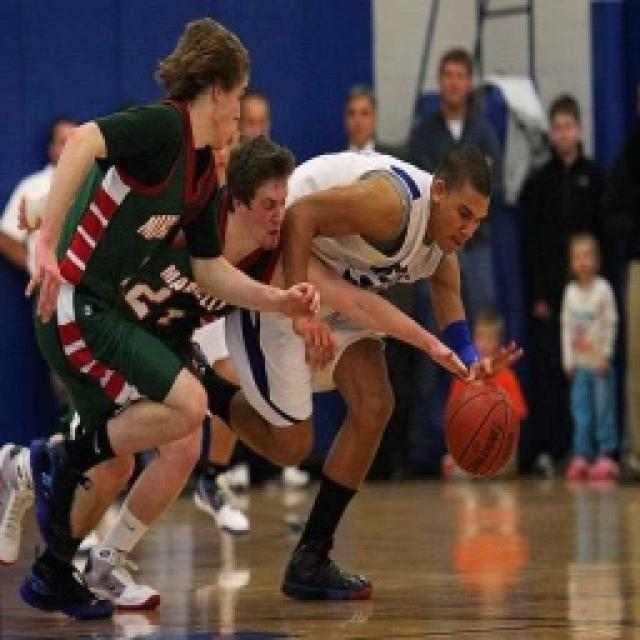rim: (436, 374, 526, 486)
